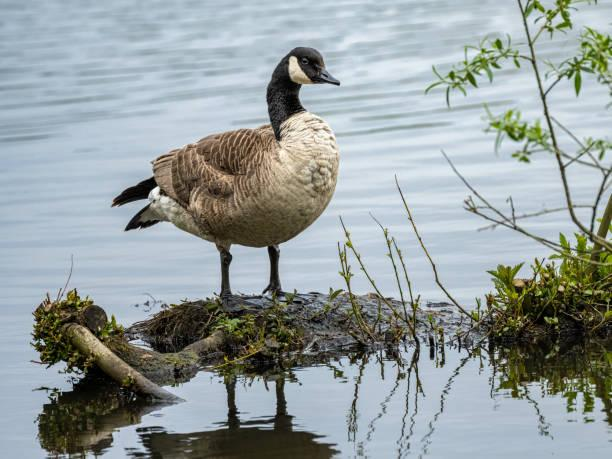Canadian-Goose: (113, 44, 348, 304)
